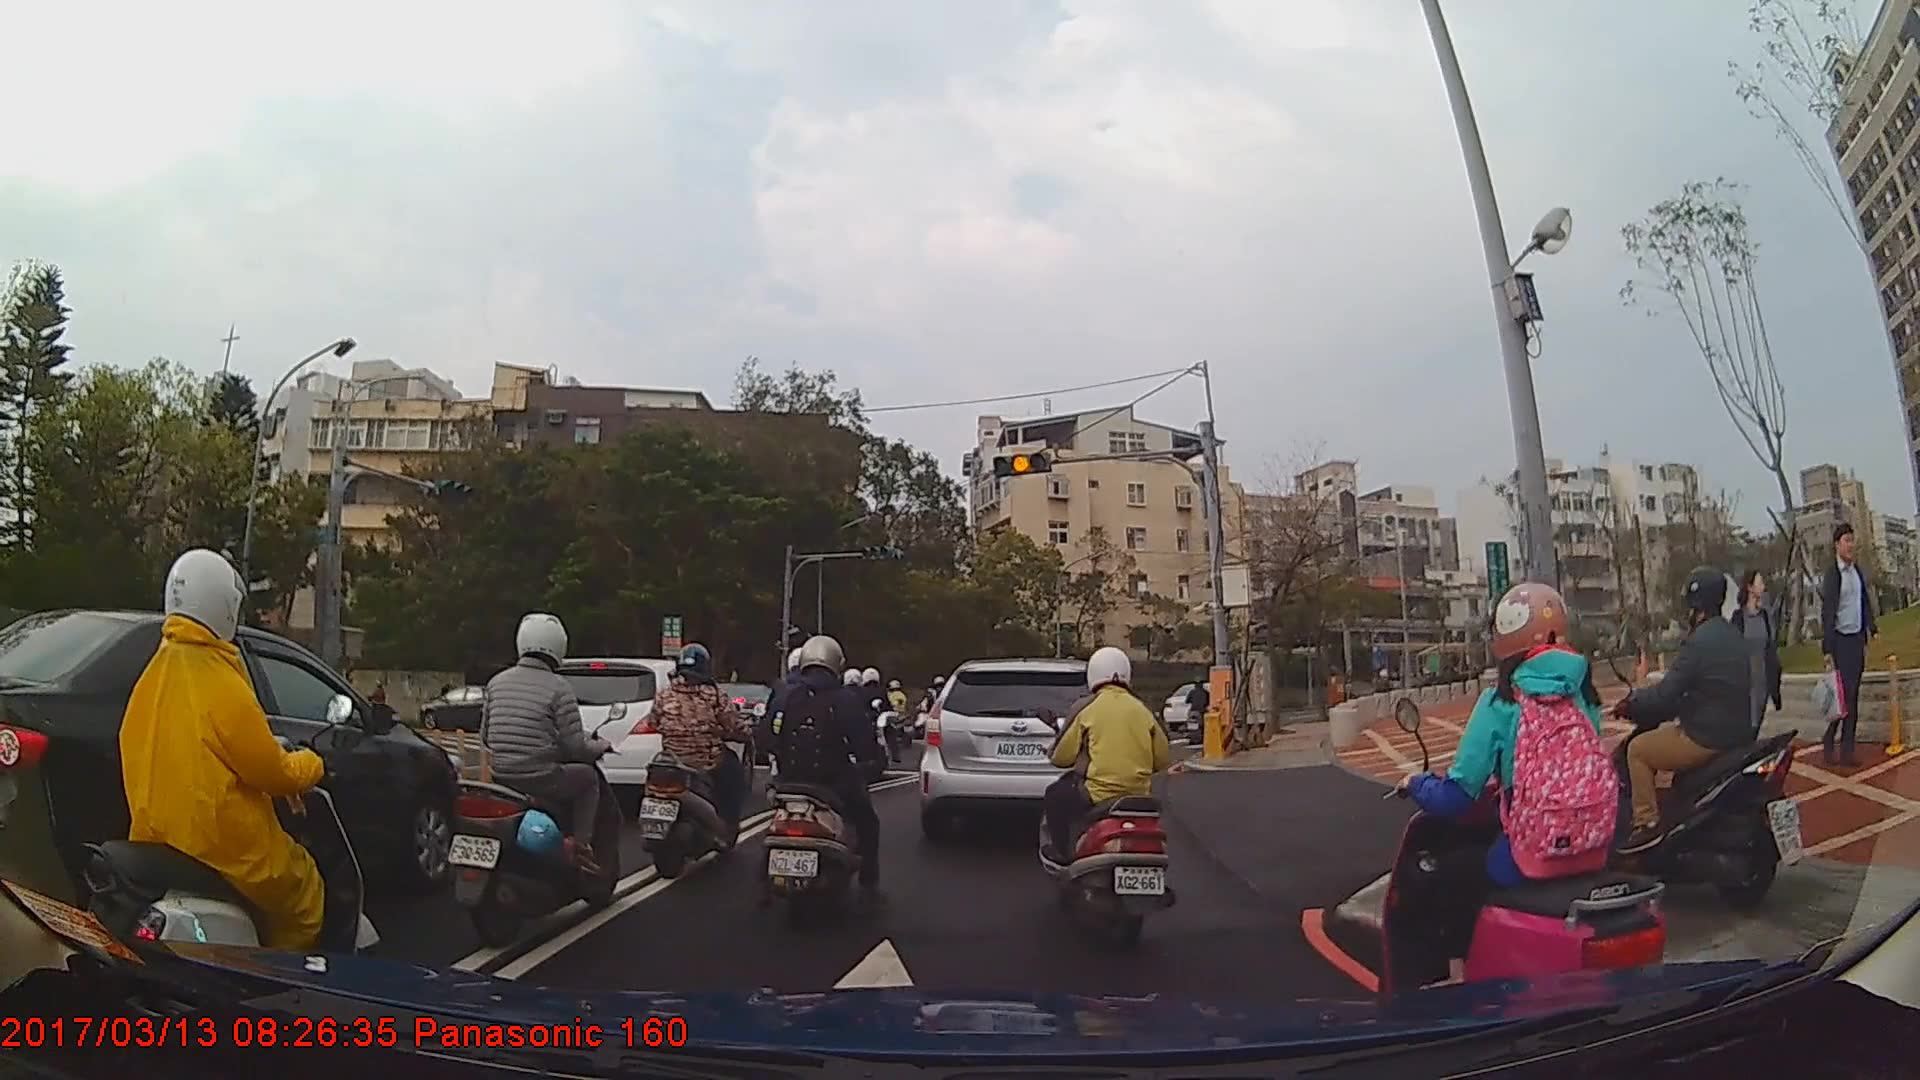pedestrian: (1812, 525, 1876, 772), (1721, 569, 1785, 800)
rider: (78, 544, 383, 1011), (1375, 584, 1669, 1028), (1594, 571, 1783, 908), (448, 607, 619, 952), (1035, 645, 1179, 949), (761, 635, 893, 933), (634, 642, 761, 878), (882, 677, 917, 743), (1186, 677, 1216, 743)
vehicle: (0, 606, 463, 934), (912, 659, 1127, 839), (519, 657, 755, 817), (419, 684, 522, 732)
